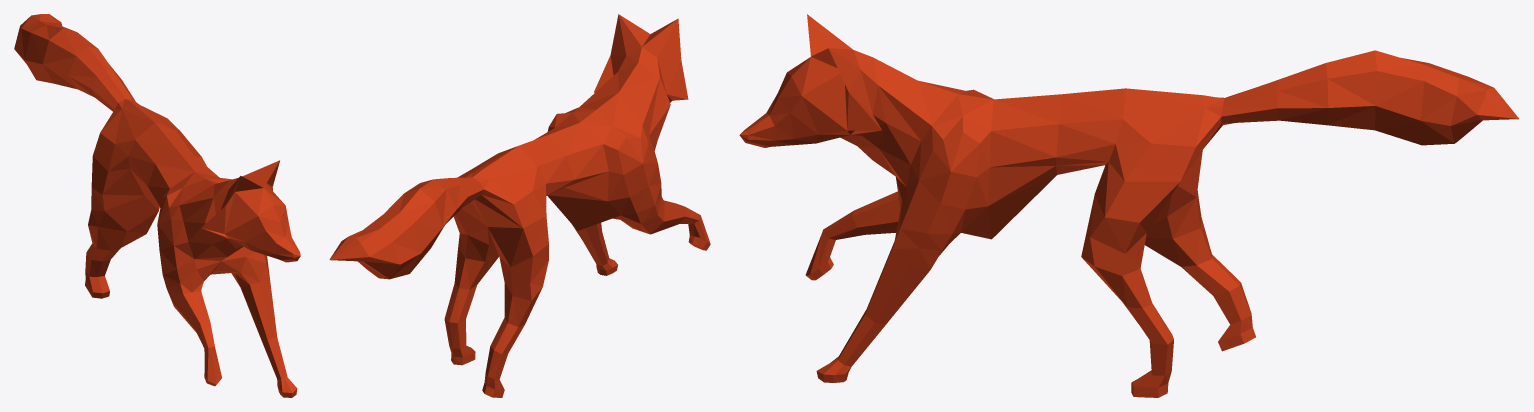
Rendered from low-poly-fox.obj.
The picture shows the model from 3 angles, left to right: view 1: azimuth 30°, elevation 25°; view 2: azimuth 150°, elevation 25°; view 3: azimuth 270°, elevation 25°; orthographic projection. The views are drawn at different scales.
Parts seen in each view (by area): view 1: fox_fox_Cube.001; view 2: fox_fox_Cube.001; view 3: fox_fox_Cube.001.
Part boxes in pixels (x1=…): fox_fox_Cube.001: x1=14, y1=14, x2=300, y2=397; fox_fox_Cube.001: x1=329, y1=14, x2=710, y2=397; fox_fox_Cube.001: x1=739, y1=14, x2=1518, y2=397.
Size of the model in its own units: 1.32 by 2.55 by 5.44.
